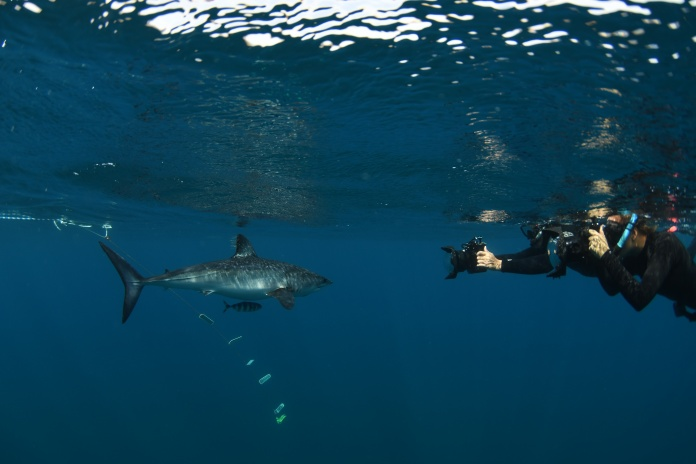Mako: (80, 224, 342, 329)
